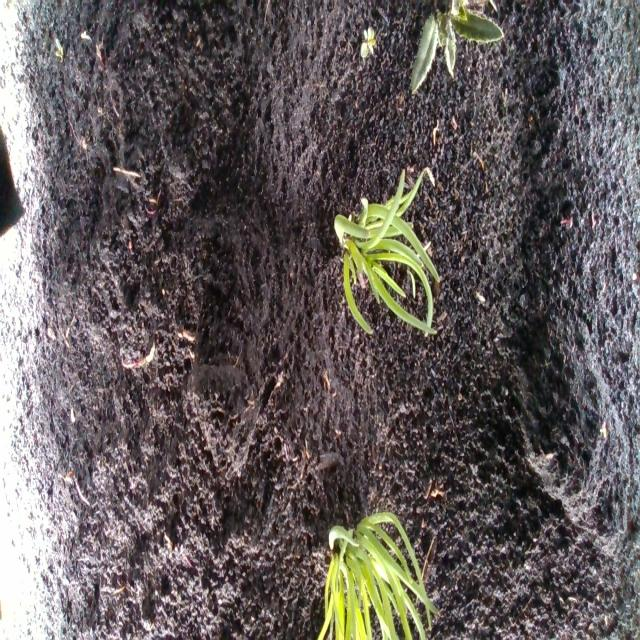weed: (361, 24, 375, 60), (52, 36, 64, 63)
